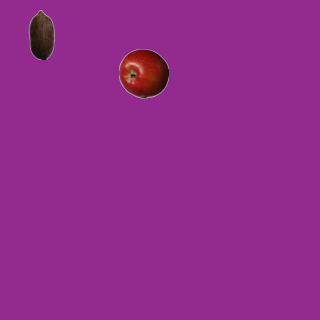Apple Braeburn: (118, 48, 168, 98)
Nut Pecan: (16, 9, 66, 59)
